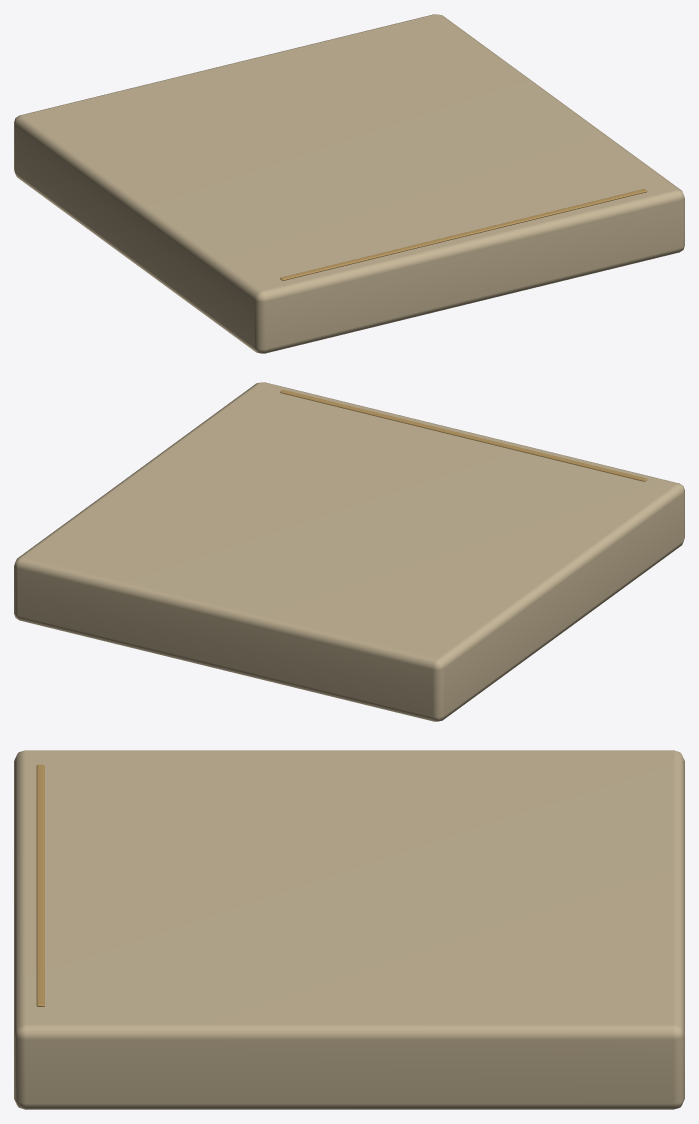
Rendered from tile.glb.
3 views of the same model, one above another, from view 1: azimuth 30°, elevation 25°; view 2: azimuth 150°, elevation 25°; view 3: azimuth 270°, elevation 25° (orthographic). The views are drawn at different scales.
Parts seen in each view (by area): view 1: Architectural tile, Thin edge inlay; view 2: Architectural tile, Thin edge inlay; view 3: Architectural tile, Thin edge inlay.
Part boxes in pixels (left/top/right/bottom): Architectural tile: left=14, top=14, right=684, bottom=353; Thin edge inlay: left=280, top=189, right=647, bottom=280; Architectural tile: left=14, top=382, right=684, bottom=721; Thin edge inlay: left=280, top=390, right=647, bottom=481; Architectural tile: left=14, top=750, right=684, bottom=1109; Thin edge inlay: left=36, top=764, right=44, bottom=1006.
Bounding box in the file's own units: 2 × 0.289 × 2.
